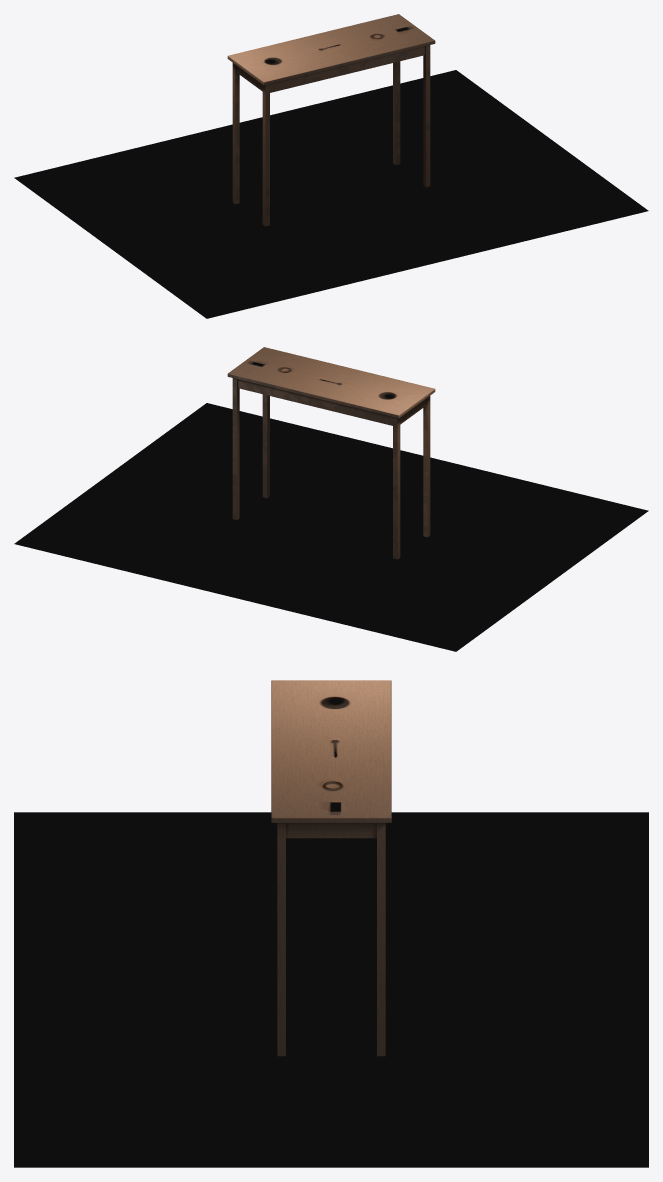
File: 801_intro.glb
3 renders of one model, top to bottom at view 1: azimuth 30°, elevation 25°; view 2: azimuth 150°, elevation 25°; view 3: azimuth 270°, elevation 25°, orthographic. The views are drawn at different scales.
Parts seen in each view (by area): view 1: Shadow, Table; view 2: Shadow, Table; view 3: Shadow, Table.
Part boxes in pixels (x1=…): Shadow: x1=14, y1=70, x2=648, y2=318; Table: x1=227, y1=14, x2=435, y2=226; Shadow: x1=14, y1=403, x2=648, y2=651; Table: x1=227, y1=347, x2=435, y2=559; Shadow: x1=14, y1=812, x2=648, y2=1167; Table: x1=271, y1=680, x2=391, y2=1056.
Size of the model in its own units: 9.8 by 3.1 by 7.4.
2 materials, 2 textured.
